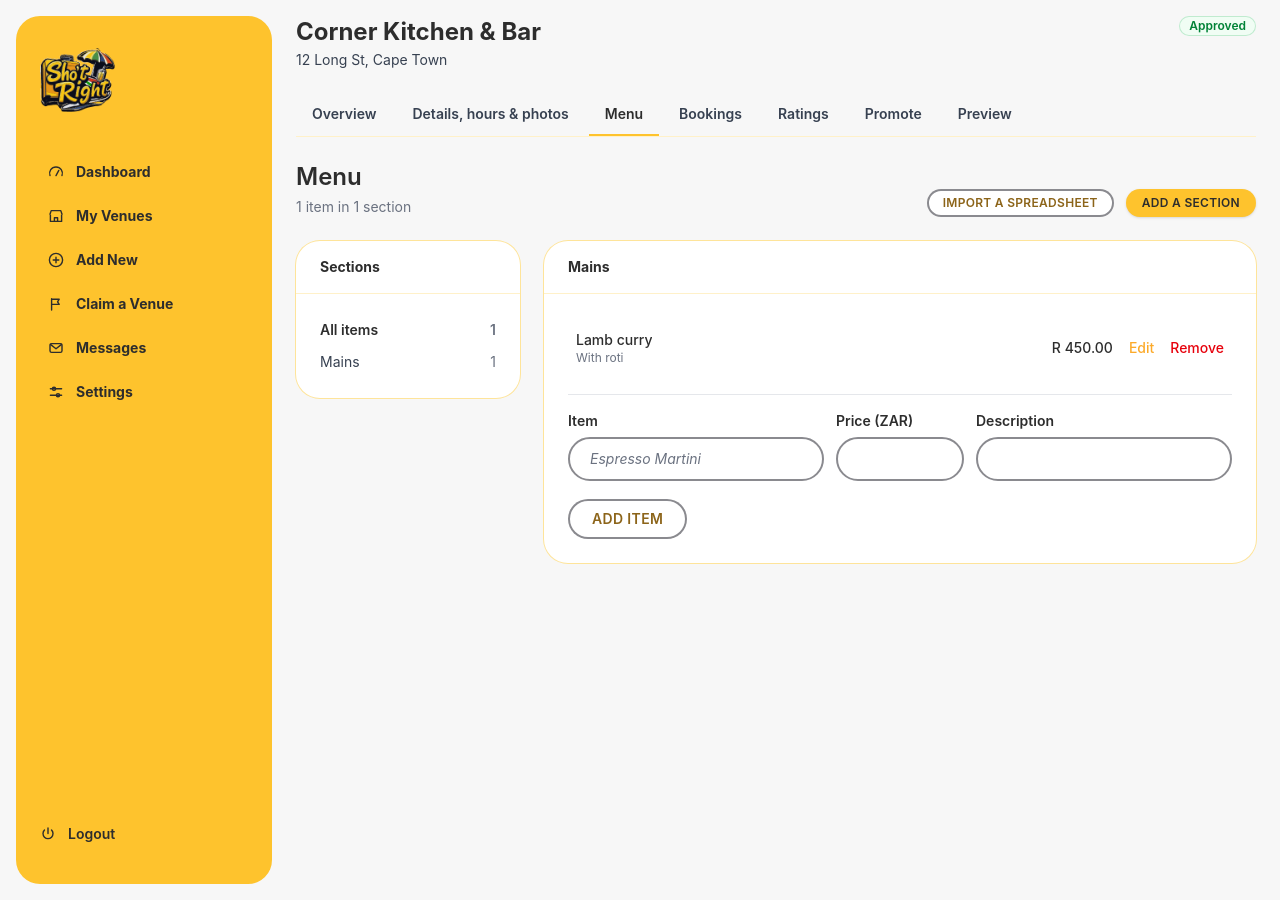
edit a menu item › leaves the item alone when the edit is cancelled
This screenshot has width=1280, height=900.
Click the button with aria-label "edit lamb curry" at (1142, 348), box left=1129, top=338, right=1154, bottom=358
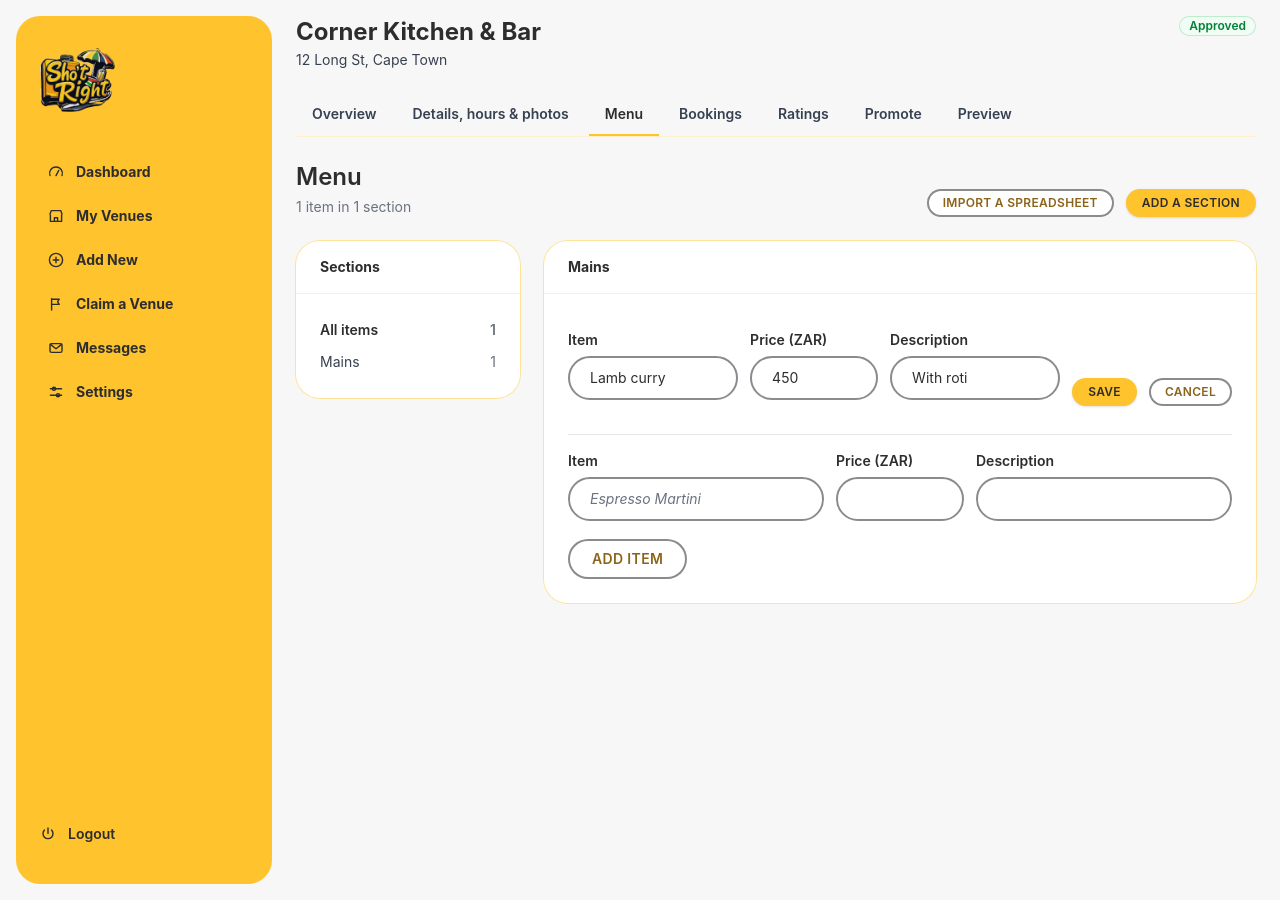
Replace the text in the 1st field labelled "Item" with "Something else" at (653, 378), box left=568, top=356, right=738, bottom=400
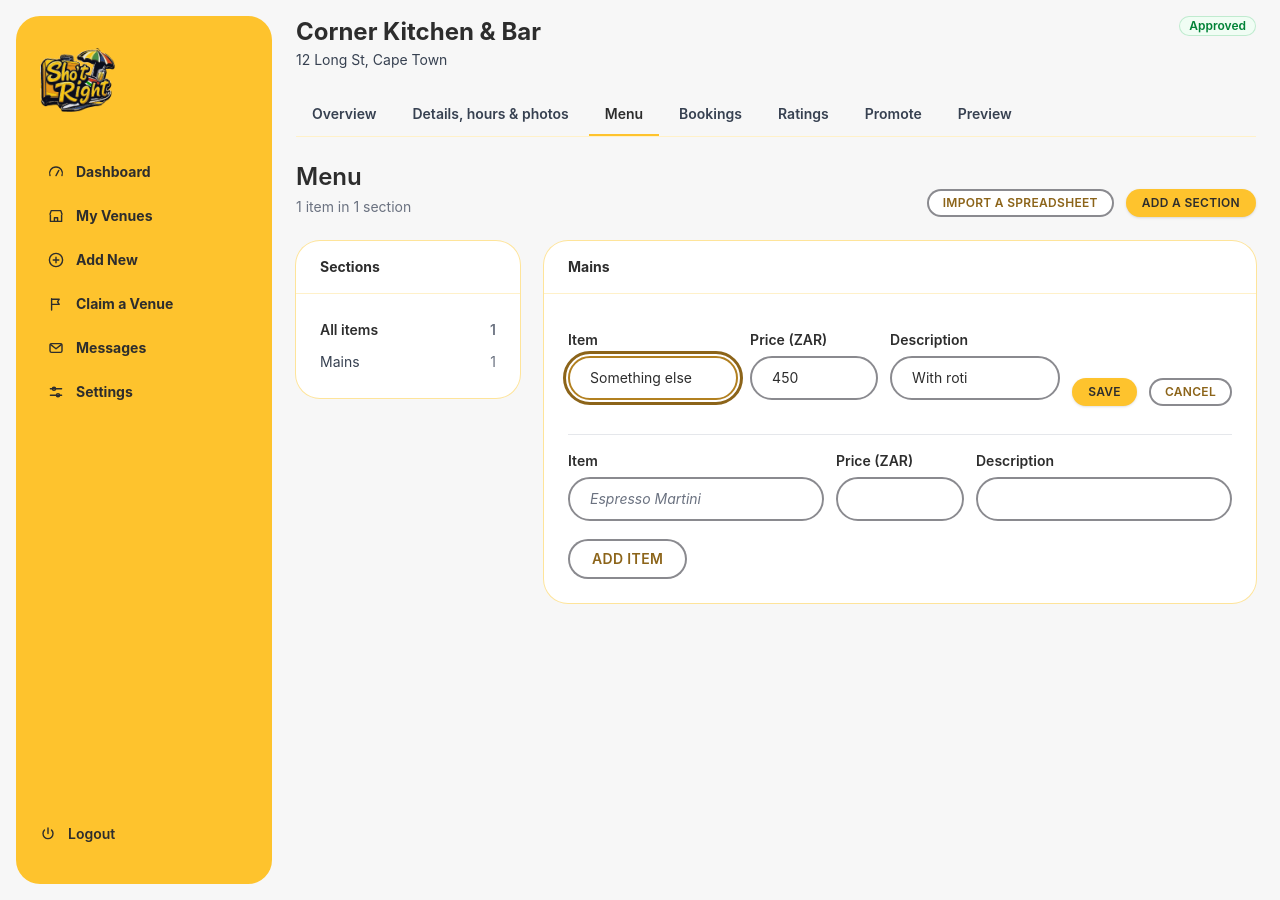
Click the button "Cancel" at (1190, 392), box left=1149, top=378, right=1232, bottom=406
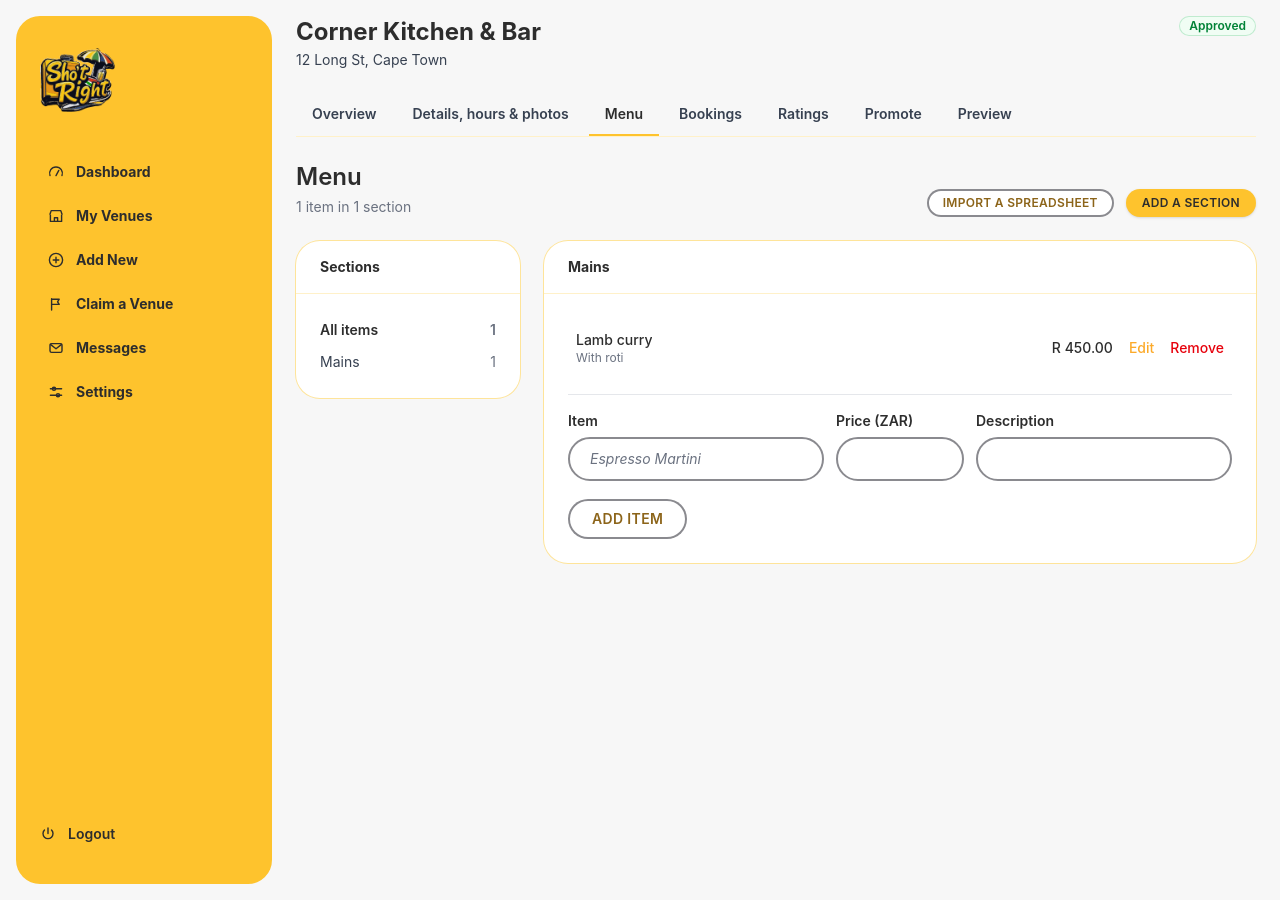
Now the text "Lamb curry" is shown, box left=576, top=330, right=652, bottom=350
